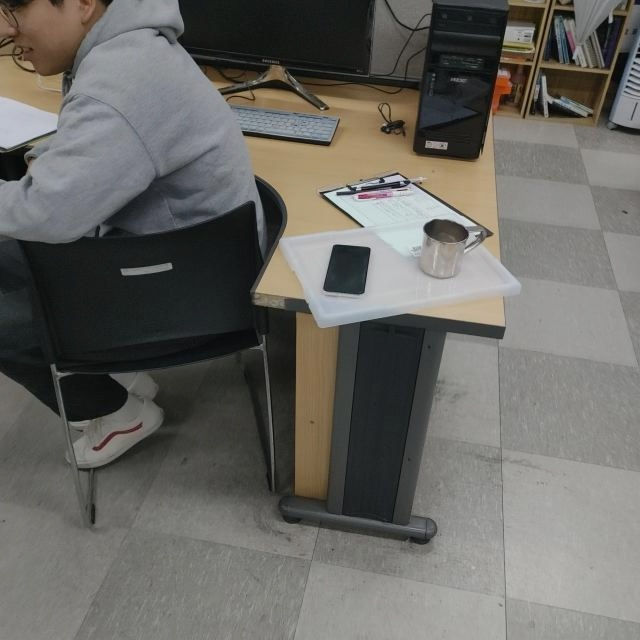cup: (419, 217, 489, 281)
phone: (321, 240, 371, 300)
